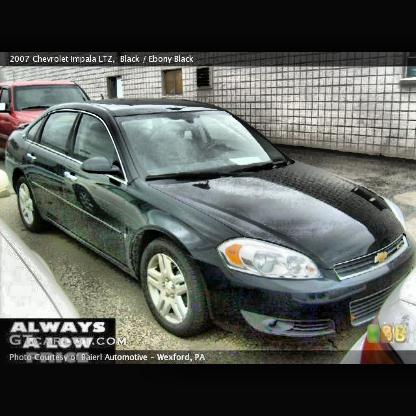Chevrolet Impala Sedan 2007: (6, 101, 416, 354)
